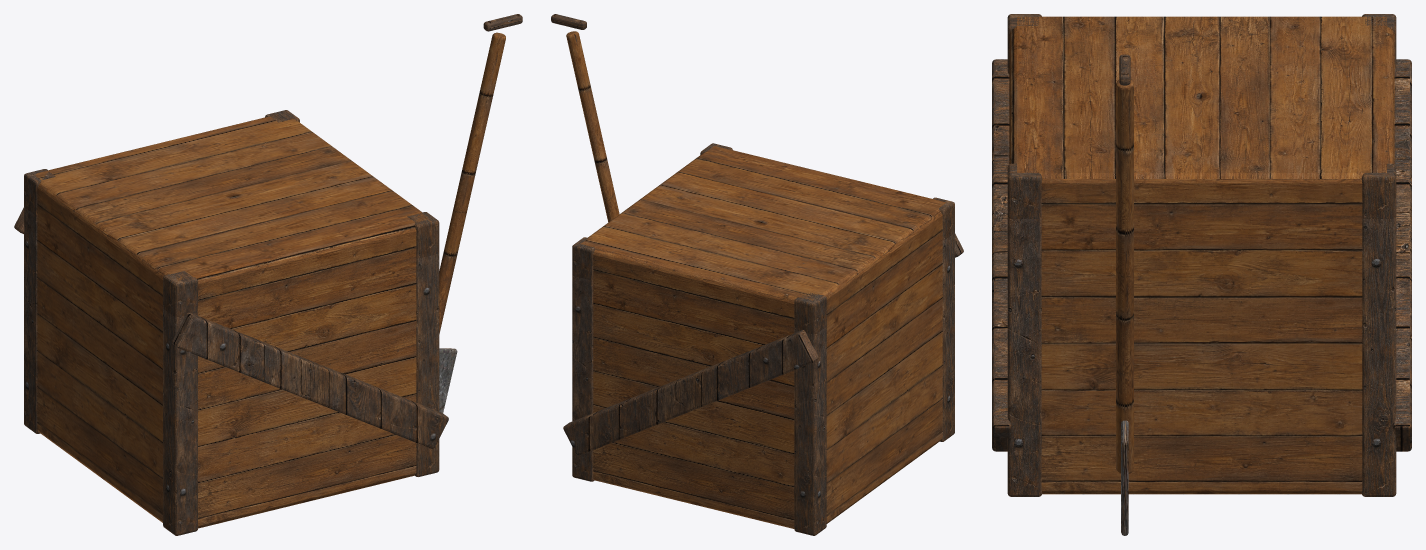
The model's file is mining-shovel-v01.glb.
The picture shows the model from 3 angles, left to right: view 1: azimuth 30°, elevation 25°; view 2: azimuth 150°, elevation 25°; view 3: azimuth 270°, elevation 25°; orthographic projection. The views are drawn at different scales.
Visible parts, largest first — view 1: mining-shovel; view 2: mining-shovel; view 3: mining-shovel.
Boxes of the visible parts, x1,y1,x2,y2 form: mining-shovel: (14,14,522,535); mining-shovel: (551,14,963,535); mining-shovel: (992,14,1411,535).
Size of the model in its own units: 1.51 by 1.47 by 1.09.
Materials: 3 (3 with a texture image).
